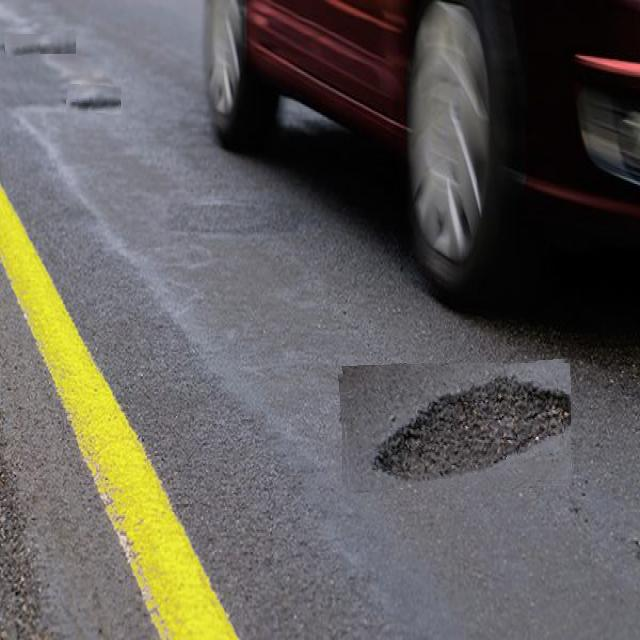Pothole: (340, 363, 571, 490), (5, 32, 76, 55), (67, 85, 121, 115)
